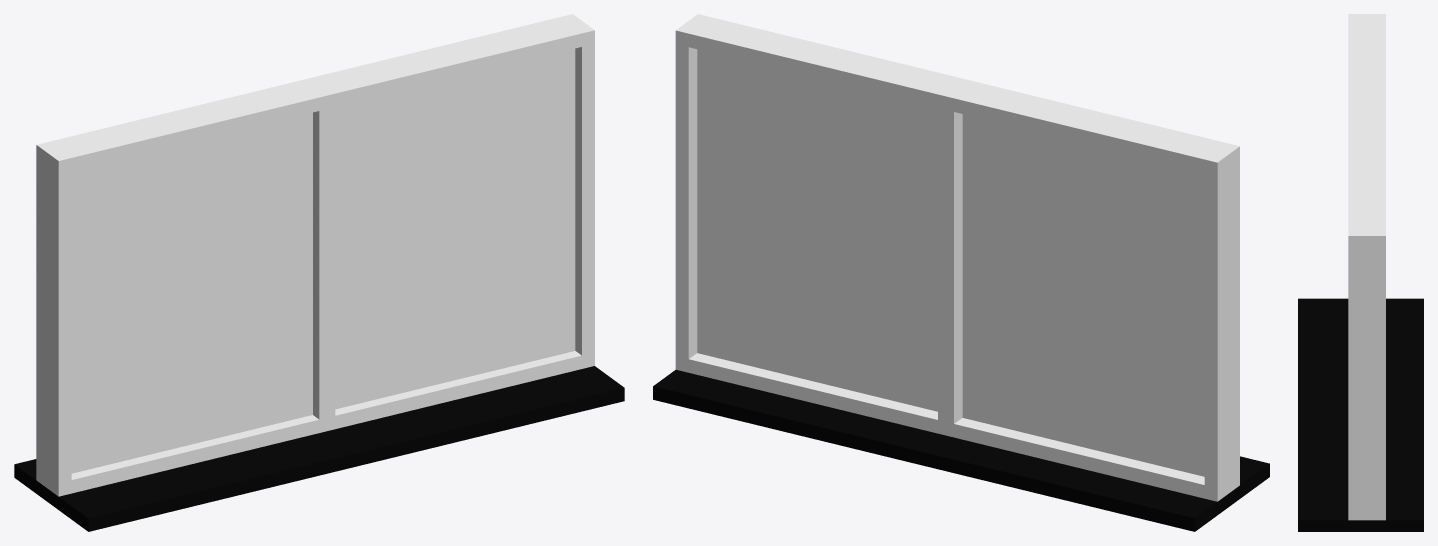
The model's file is wyC.fbx.
The picture shows the model from 3 angles, left to right: view 1: azimuth 30°, elevation 25°; view 2: azimuth 150°, elevation 25°; view 3: azimuth 270°, elevation 25°; orthographic projection. The views are drawn at different scales.
Parts seen in each view (by area): view 1: glass, i, i2; view 2: glass, i, i2; view 3: i2, i.
Boxes of the visible parts, x1,y1,x2,y2 form: glass: (71, 48, 575, 473); i: (36, 14, 594, 496); i2: (14, 366, 624, 531); glass: (697, 49, 1204, 476); i: (675, 14, 1239, 501); i2: (653, 369, 1269, 531); i2: (1298, 298, 1423, 531); i: (1348, 14, 1385, 520).
Size of the model in its own units: 16.71 by 10.4 by 4.
